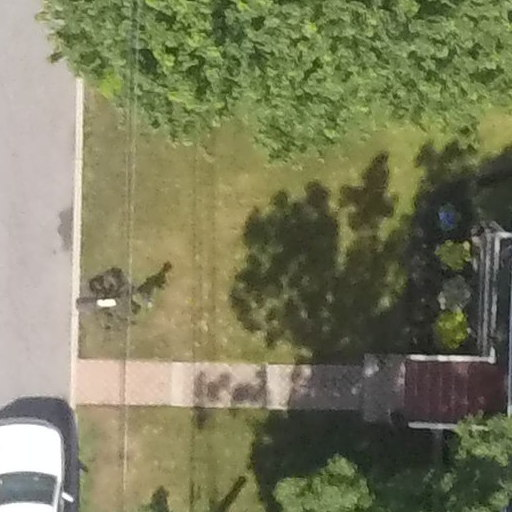front yard: (87, 37, 485, 512)
